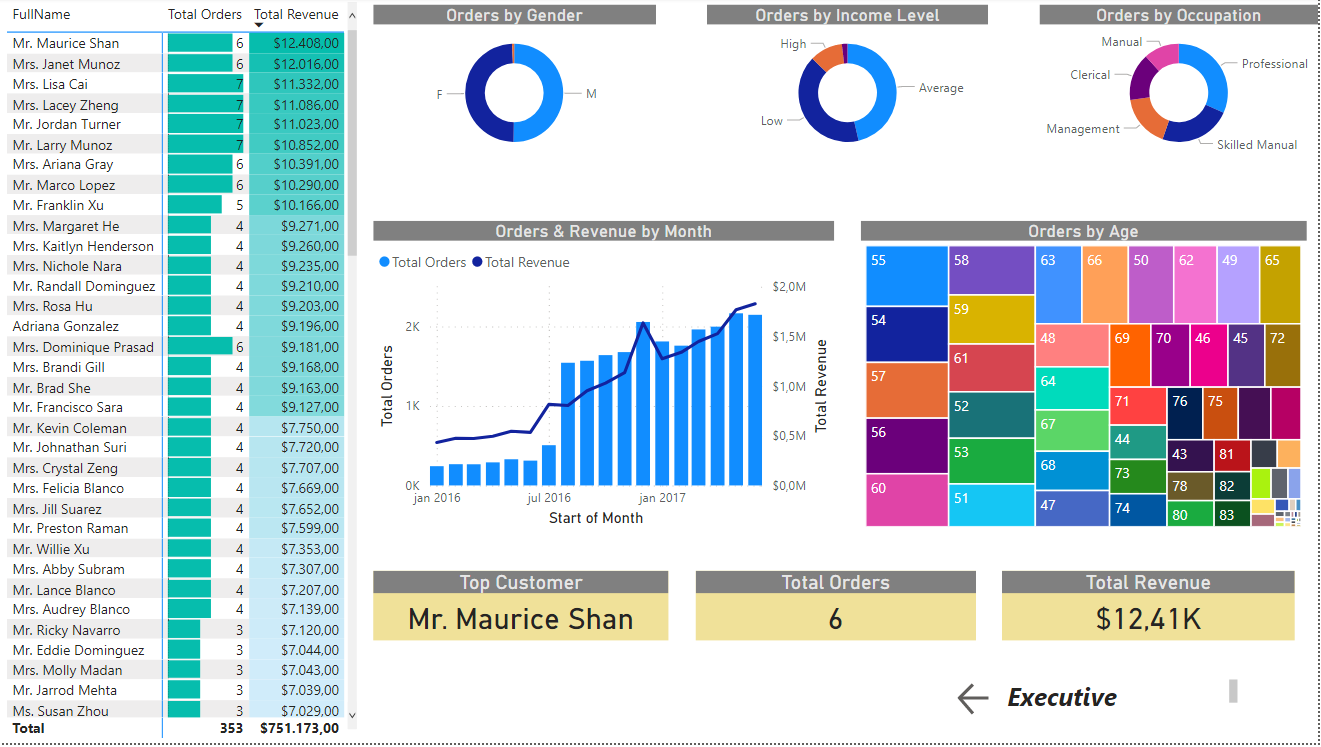

The page's visual inventory and layout, read from the dashboard file:
{"tool":"powerbi","page":{"name":"Customer Detail","canvas":[1280,720],"ordinal":2},"visuals":[{"type":"pivotTable","fields":{"Rows":["AW_Customer_Lookup.FullName"],"Values":["AW_Sales.Total Orders","AW_Sales.Total Revenue"]},"box":[10,0,347.5,720],"z":0},{"type":"donutChart","title":"Orders by Gender","fields":{"Y":["AW_Sales.Total Orders"],"Category":["AW_Customer_Lookup.Gender"]},"box":[367.5,7.5,272.5,151.2],"z":1000},{"type":"donutChart","title":"Orders by Income Level","fields":{"Y":["AW_Sales.Total Orders"],"Category":["AW_Customer_Lookup.IncomeLevel"]},"box":[690,7.5,271.2,151.2],"z":2000},{"type":"donutChart","title":"Orders by Occupation","fields":{"Y":["AW_Sales.Total Orders"],"Category":["AW_Customer_Lookup.Occupation"]},"box":[1011.2,7.5,268.8,151.2],"z":3000},{"type":"lineClusteredColumnComboChart","title":"Orders & Revenue by Month","fields":{"Y2":["AW_Sales.Total Revenue"],"Category":["AW_Calendar_Lookup.Start of Month"],"Y":["AW_Sales.Total Orders"]},"box":[367.5,216.2,445,300],"z":4000},{"type":"treemap","title":"Orders by Age","fields":{"Values":["AW_Sales.Total Orders"],"Group":["AW_Customer_Lookup.Current Age"]},"box":[838.8,216.2,430,300],"z":5000},{"type":"card","title":"Top Customer","fields":{"Values":["Min(AW_Customer_Lookup.FullName)"]},"box":[367.5,553.8,285,67.5],"z":6000},{"type":"card","title":"Total Orders","fields":{"Values":["AW_Sales.Total Orders"]},"box":[678.8,553.8,270,67.5],"z":7000},{"type":"card","title":"Total Revenue","fields":{"Values":["AW_Sales.Total Revenue"]},"box":[975,553.8,282.5,67.5],"z":8000},{"type":"textbox","box":[975,653.8,232.5,47.5],"z":9000},{"type":"actionButton","box":[927.5,657.5,42.5,40],"z":10000}]}

Visuals, with their boxes in screenshot pixels (x1, y1, x2, y2), scaled from the page's 1280x720 canvas onto the 1321x747 screenshot:
pivotTable - AW_Customer_Lookup.FullName x AW_Sales.Total Orders: l=10, t=0, r=369, b=746
"Orders by Gender" donutChart: l=379, t=8, r=660, b=165
"Orders by Income Level" donutChart: l=712, t=8, r=992, b=165
"Orders by Occupation" donutChart: l=1044, t=8, r=1320, b=165
"Orders & Revenue by Month" lineClusteredColumnComboChart: l=379, t=224, r=839, b=536
"Orders by Age" treemap: l=866, t=224, r=1309, b=536
"Top Customer" card: l=379, t=575, r=673, b=645
"Total Orders" card: l=701, t=575, r=979, b=645
"Total Revenue" card: l=1006, t=575, r=1298, b=645
textbox: l=1006, t=678, r=1246, b=728
actionButton: l=957, t=682, r=1001, b=724
